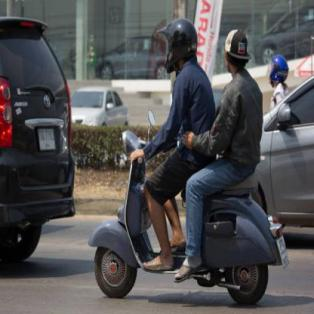Motocicleta: (89, 106, 289, 306)
